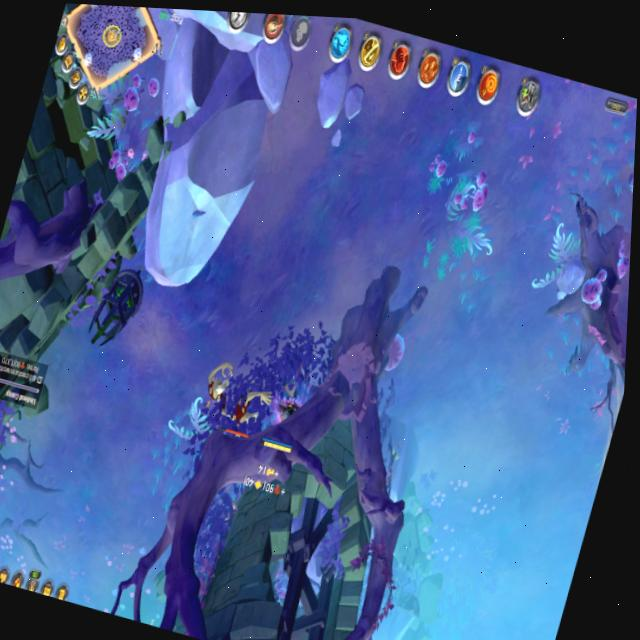ore: (219, 375, 268, 447)
red: (256, 375, 310, 460)
